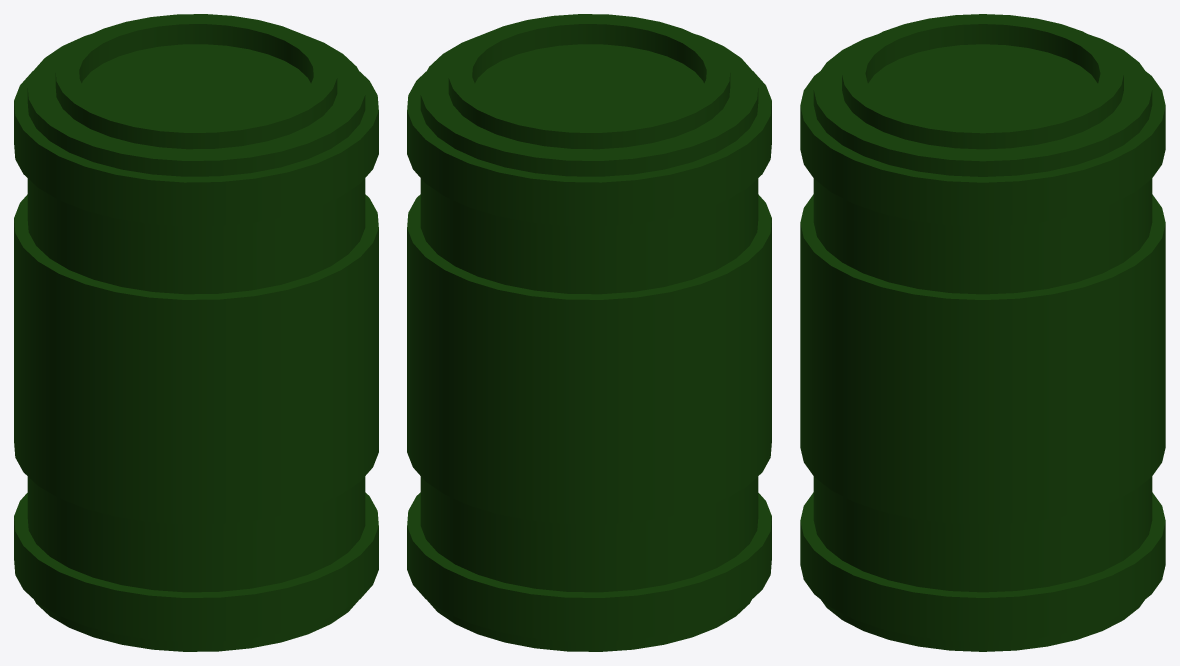
Rendered from Barrel 2.fbx.
3 renders of one model, left to right at view 1: azimuth 30°, elevation 25°; view 2: azimuth 150°, elevation 25°; view 3: azimuth 270°, elevation 25°, orthographic.
Parts seen in each view (by area): view 1: Cylinder, Cylinder.001, Cylinder.002; view 2: Cylinder, Cylinder.001, Cylinder.002; view 3: Cylinder, Cylinder.001, Cylinder.002.
Boxes of the visible parts, box(x1,y1,x2,y2) form: Cylinder: box(27, 14, 365, 651); Cylinder.001: box(14, 194, 378, 524); Cylinder.002: box(14, 71, 378, 641); Cylinder: box(420, 14, 758, 651); Cylinder.001: box(407, 194, 771, 524); Cylinder.002: box(407, 71, 771, 641); Cylinder: box(813, 14, 1152, 651); Cylinder.001: box(800, 194, 1165, 524); Cylinder.002: box(800, 71, 1165, 641).
Bounding box in the file's own units: 2.16 × 3.31 × 2.16.
